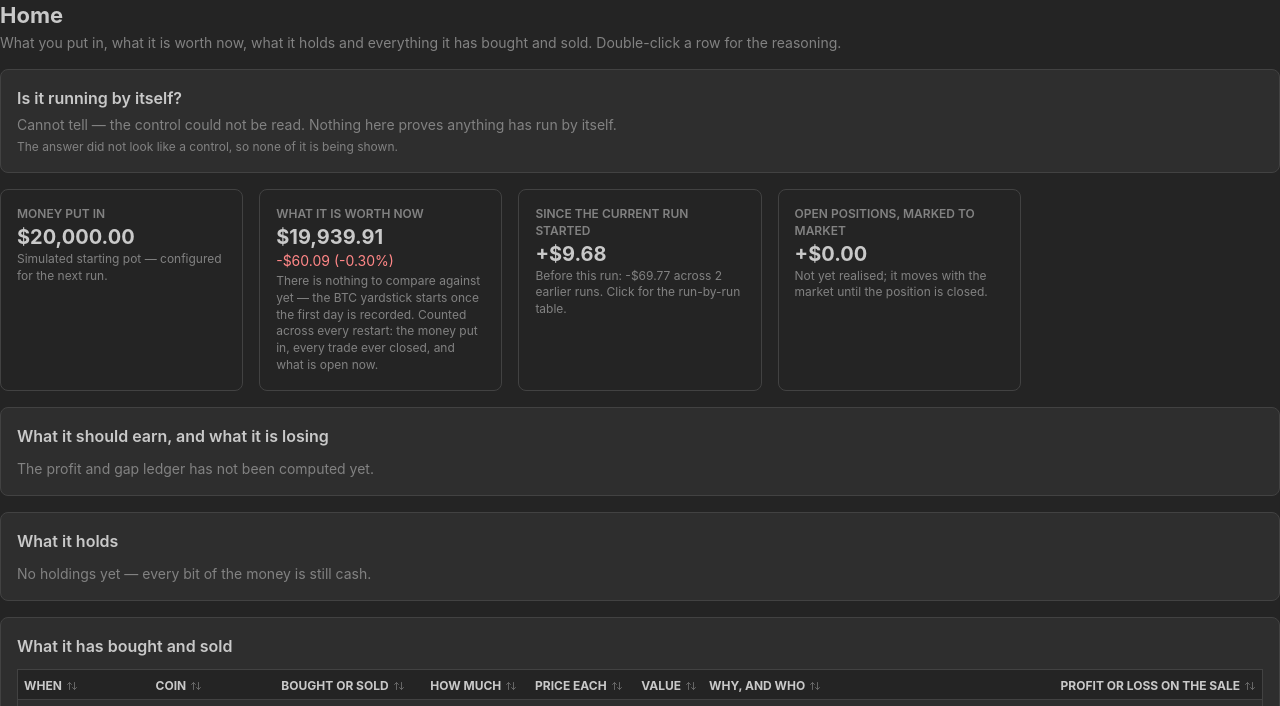
Test: Home with the pot › opens the run-by-run table from the card, with every boundary and the ledger gap
The width and height of the screenshot is (1280, 706).
Click the text "Since the current run started" at (612, 222), box [535,206,688,238]
(page scrolled)
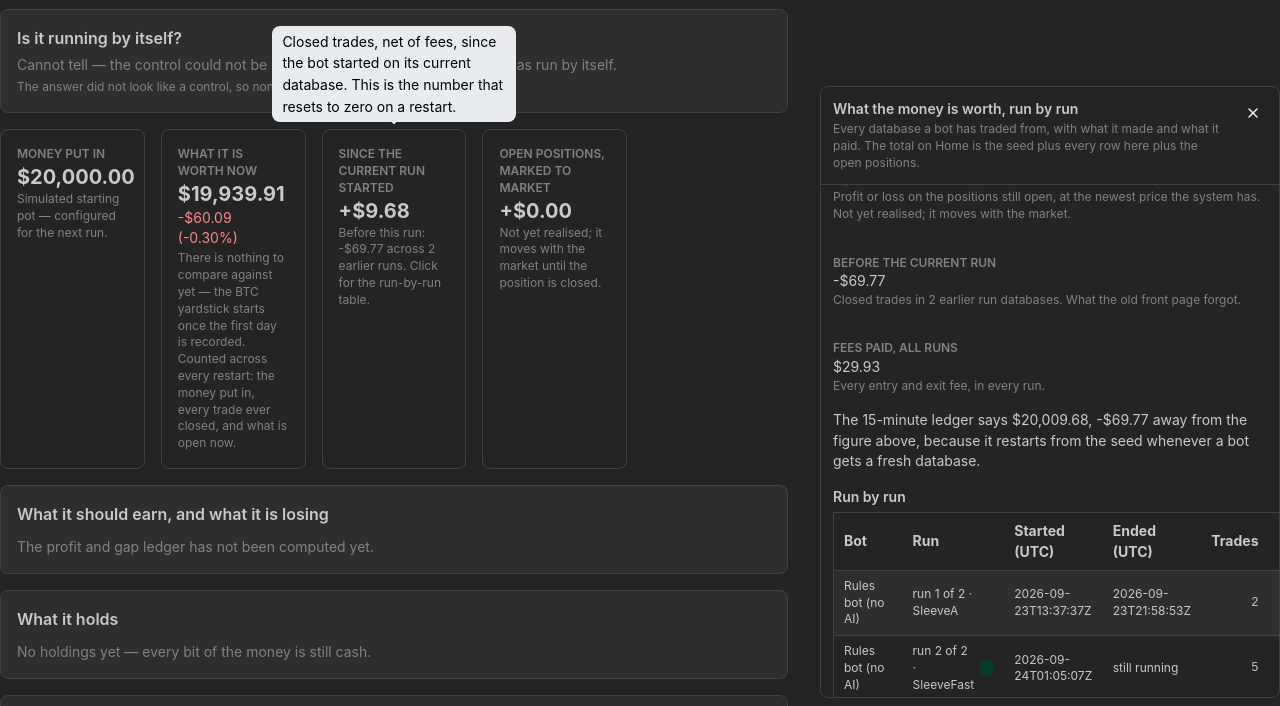
Check: the text with test id "detail-pane-title" shows "run by run", box [833,100,1078,117]
Check: the 2nd row shows "Rules bot", box [844,578,884,626]
Check: the 2nd row shows "run 1 of 2", box [913,586,965,601]
